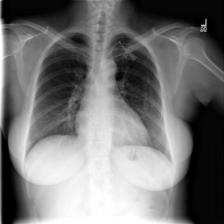normal: (22, 26, 177, 165)
